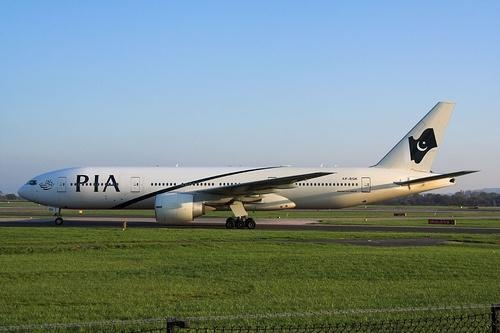aeroplane: (19, 102, 479, 231)
